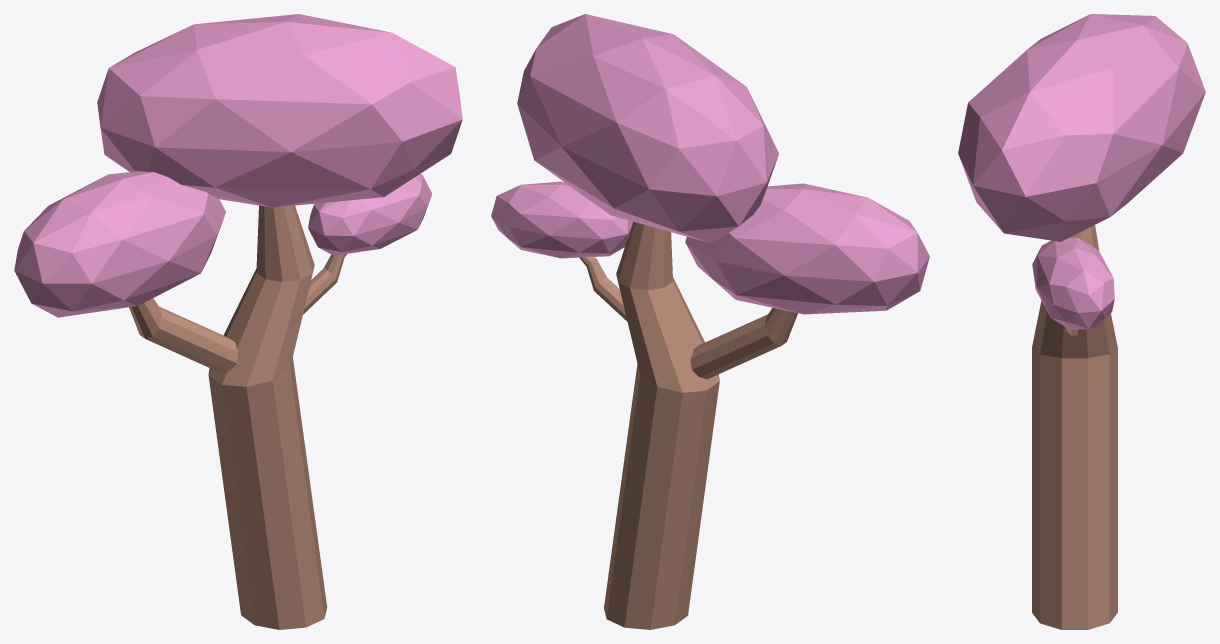
The model's file is sakura.fbx.
3 views of the same model, side by side, from view 1: azimuth 30°, elevation 25°; view 2: azimuth 150°, elevation 25°; view 3: azimuth 270°, elevation 25° (orthographic). The views are drawn at different scales.
Visible parts, largest first — view 1: Icosphere.006, Cylinder.011, Icosphere.007, Icosphere.008, Cylinder.012, Cylinder.013; view 2: Icosphere.006, Cylinder.011, Icosphere.007, Icosphere.008, Cylinder.012, Cylinder.013; view 3: Icosphere.006, Cylinder.011, Icosphere.008.
Boxes of the visible parts, x1=… form: Icosphere.006: x1=97, y1=14, x2=462, y2=207; Cylinder.011: x1=208, y1=205, x2=327, y2=629; Icosphere.007: x1=14, y1=171, x2=225, y2=317; Icosphere.008: x1=308, y1=174, x2=432, y2=255; Cylinder.012: x1=129, y1=298, x2=238, y2=373; Cylinder.013: x1=303, y1=253, x2=347, y2=314; Icosphere.006: x1=517, y1=14, x2=778, y2=243; Cylinder.011: x1=604, y1=221, x2=719, y2=629; Icosphere.007: x1=685, y1=183, x2=929, y2=314; Icosphere.008: x1=491, y1=181, x2=632, y2=258; Cylinder.012: x1=690, y1=308, x2=797, y2=379; Cylinder.013: x1=579, y1=256, x2=627, y2=321; Icosphere.006: x1=958, y1=14, x2=1205, y2=241; Cylinder.011: x1=1032, y1=225, x2=1117, y2=629; Icosphere.008: x1=1032, y1=237, x2=1114, y2=330.
Size of the model in its own units: 1112 by 1473 by 576.
